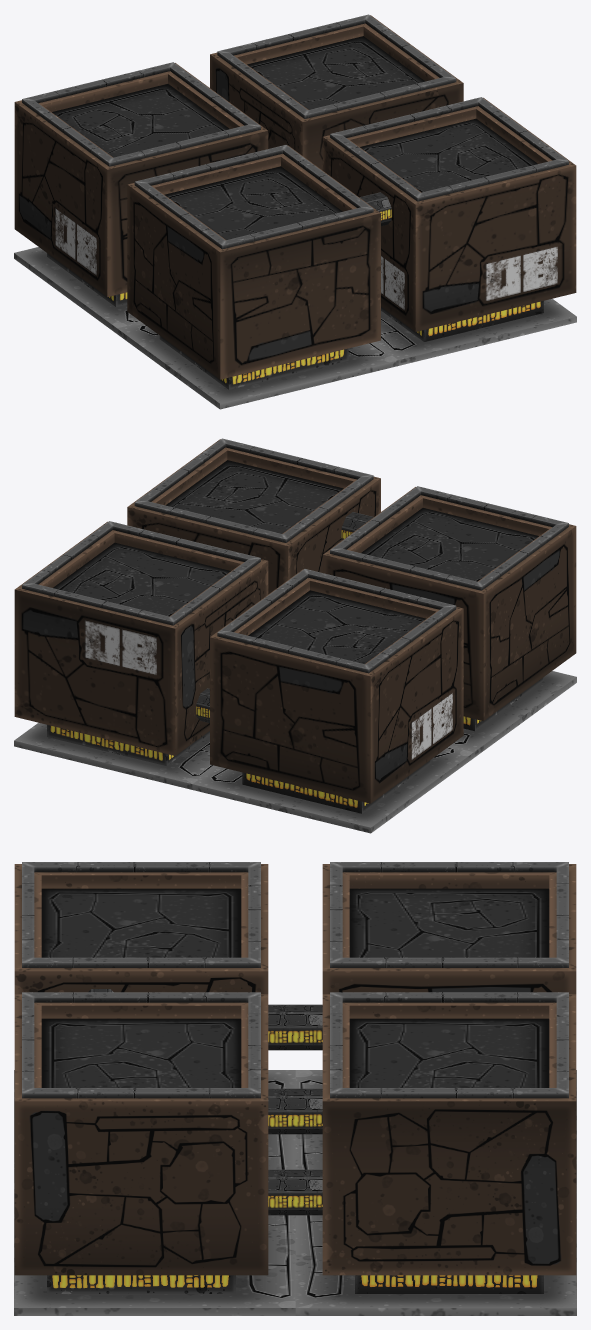
Rendered from Building - 6.obj.
3 renders of one model, top to bottom at view 1: azimuth 30°, elevation 25°; view 2: azimuth 150°, elevation 25°; view 3: azimuth 270°, elevation 25°, orthographic. The views are drawn at different scales.
Parts seen in each view (by area): view 1: Cube.054; view 2: Cube.054; view 3: Cube.054.
Boxes of the visible parts, x1=… form: Cube.054: x1=14, y1=14, x2=576, y2=409; Cube.054: x1=14, y1=438, x2=576, y2=833; Cube.054: x1=14, y1=862, x2=576, y2=1315.
Size of the model in its own units: 0.6943 by 0.3189 by 0.6943.
1 material, 1 textured.
